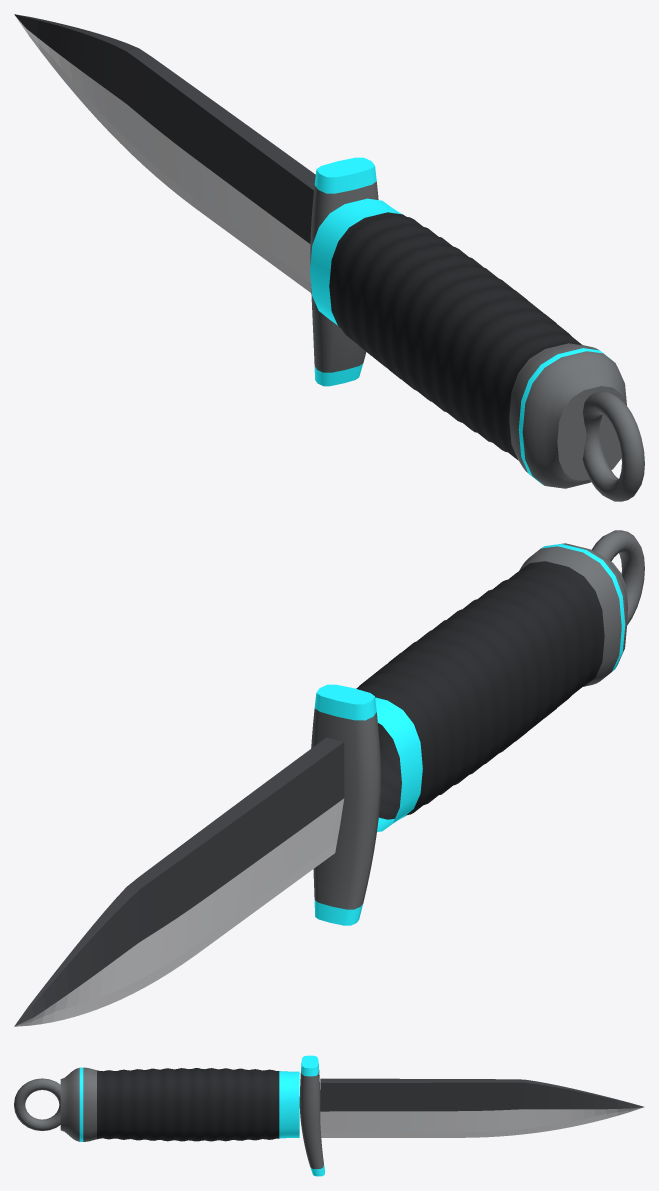
File: dagger_r.glb
3 renders of one model, top to bottom at view 1: azimuth 30°, elevation 25°; view 2: azimuth 150°, elevation 25°; view 3: azimuth 270°, elevation 25°, orthographic. The views are drawn at different scales.
Visible parts, largest first — view 1: dagger_r_mesh; view 2: dagger_r_mesh; view 3: dagger_r_mesh.
Boxes of the visible parts, bbox=[...] form: dagger_r_mesh: bbox=[14, 14, 644, 501]; dagger_r_mesh: bbox=[14, 530, 644, 1026]; dagger_r_mesh: bbox=[14, 1055, 644, 1176].
Bounding box in the file's own units: 0.0278 × 0.056 × 0.2917.
